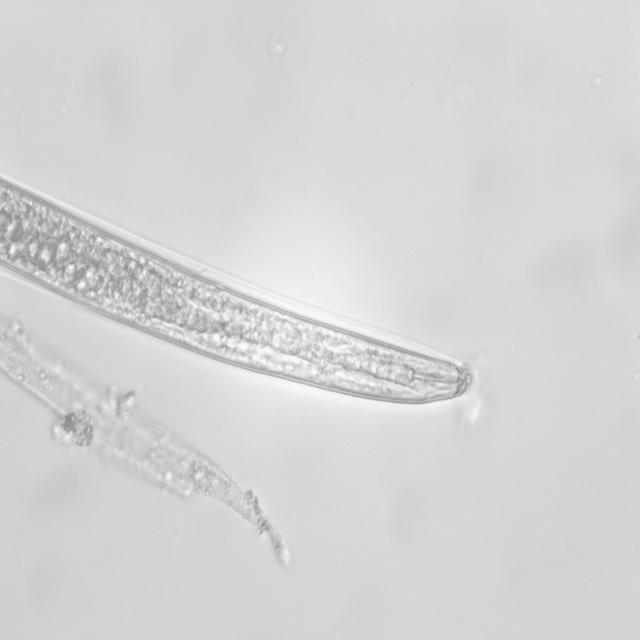Pratylenchus: (0, 171, 479, 415)
